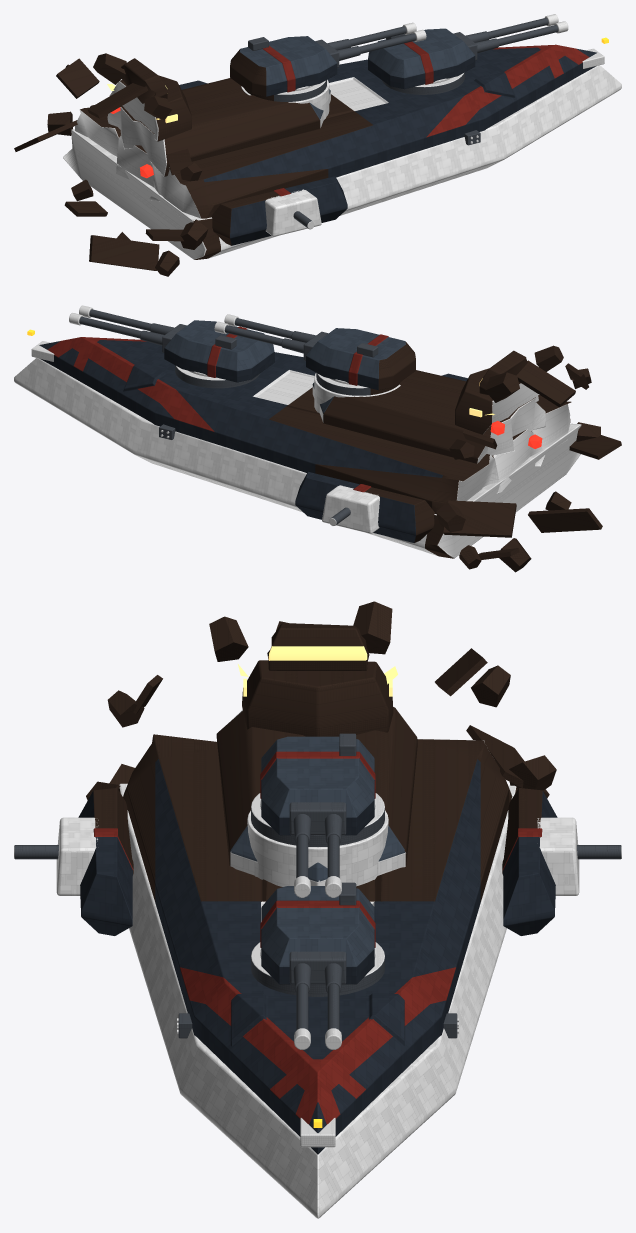
File: wreck_corvette_forward__fresh.glb
The picture shows the model from 3 angles, top to bottom: view 1: azimuth 30°, elevation 25°; view 2: azimuth 150°, elevation 25°; view 3: azimuth 270°, elevation 25°; orthographic projection. The views are drawn at different scales.
Visible parts, largest first — view 1: Deck, LowerHull, Citadel, TurretBHouse, TurretAHouse, Belt0_M, Bridge1, woundAft_t_tear5, Casemate_M, Bridge2, woundAft_t_tear2, woundAft_t_tear1 (+16 smaller); view 2: Deck, LowerHull, Citadel, TurretBHouse, TurretAHouse, Belt0, Bridge1, woundAft_t_tear3, Casemate, woundAft_t_tear5, woundAft_t_tear1, woundAft_t_tear6 (+14 smaller); view 3: Deck, LowerHull, Citadel, Bridge1, TurretBHouse, TurretAHouse, Belt0_M, Belt0, Bridge2, TurretBBarbette, Casemate, Casemate_M (+12 smaller).
Boxes of the visible parts, left/top/right/bottom form: Deck: left=75, top=44, right=596, bottom=218; LowerHull: left=63, top=65, right=621, bottom=259; Citadel: left=107, top=78, right=330, bottom=176; TurretBHouse: left=230, top=36, right=337, bottom=96; TurretAHouse: left=368, top=28, right=475, bottom=89; Belt0_M: left=211, top=176, right=347, bottom=245; Bridge1: left=109, top=75, right=191, bottom=141; woundAft_t_tear5: left=89, top=235, right=159, bottom=270; Casemate_M: left=265, top=189, right=321, bottom=236; Bridge2: left=121, top=58, right=167, bottom=103; woundAft_t_tear2: left=56, top=58, right=99, bottom=98; woundAft_t_tear1: left=87, top=83, right=148, bottom=118; Deck: left=39, top=337, right=571, bottom=513; LowerHull: left=14, top=358, right=581, bottom=558; Citadel: left=312, top=370, right=545, bottom=463; TurretBHouse: left=306, top=328, right=415, bottom=390; TurretAHouse: left=164, top=320, right=274, bottom=382; Belt0: left=295, top=471, right=435, bottom=542; Bridge1: left=455, top=368, right=538, bottom=434; woundAft_t_tear3: left=443, top=500, right=516, bottom=537; Casemate: left=322, top=485, right=379, bottom=533; woundAft_t_tear5: left=528, top=508, right=602, bottom=532; woundAft_t_tear1: left=516, top=360, right=575, bottom=407; woundAft_t_tear6: left=569, top=435, right=621, bottom=459; Deck: left=123, top=734, right=512, bottom=1154; LowerHull: left=118, top=783, right=517, bottom=1218; Citadel: left=216, top=707, right=417, bottom=885; Bridge1: left=242, top=660, right=393, bottom=736; TurretBHouse: left=260, top=736, right=375, bottom=835; TurretAHouse: left=260, top=886, right=375, bottom=984; Belt0_M: left=78, top=788, right=133, bottom=935; Belt0: left=502, top=788, right=557, bottom=935; Bridge2: left=267, top=623, right=369, bottom=670; TurretBBarbette: left=247, top=810, right=388, bottom=886; Casemate: left=537, top=817, right=579, bottom=895; Casemate_M: left=56, top=817, right=98, bottom=895.
Bounding box in the file's own units: 88.9 × 30.91 × 53.05.
11 materials, 8 textured.
